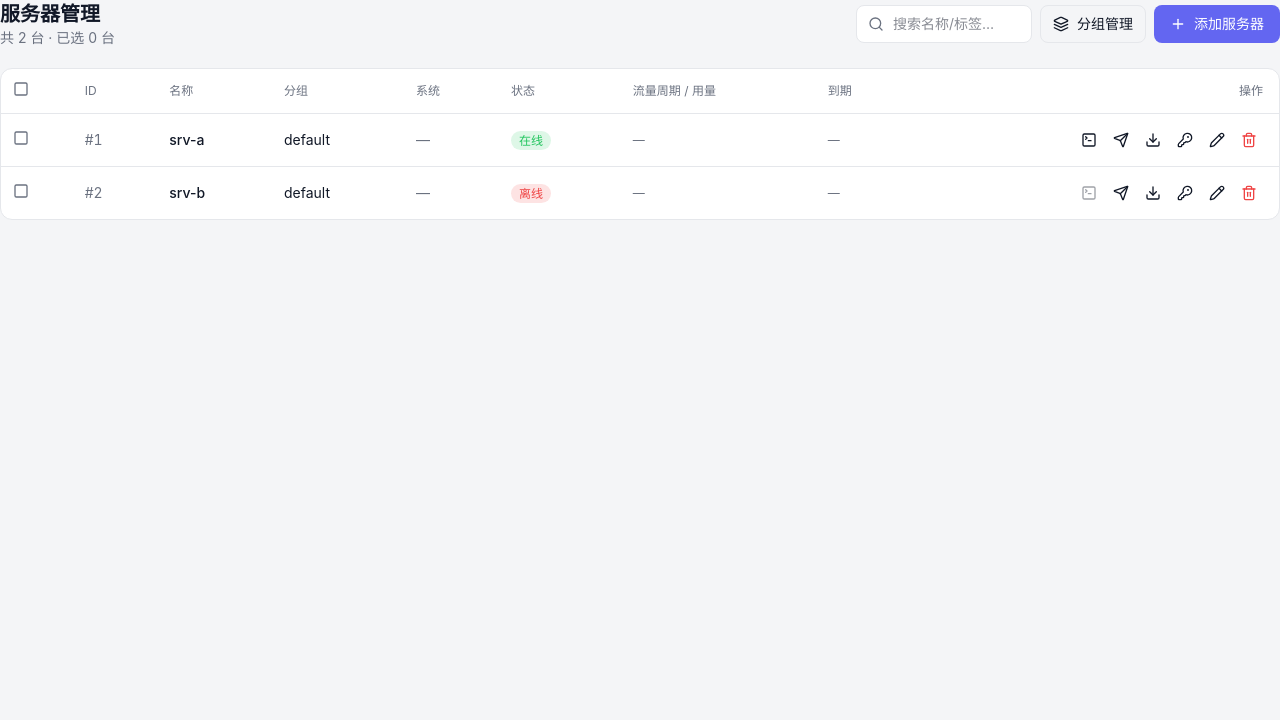
Servers batch operations › batch DDNS applies a selected profile and shows results
Check: the text "srv-a" is shown, box [153,114,268,166]
Check: the table is shown, box [1,114,1279,219]
Click the button without text in the row of "srv-a" at (21,138), box [13,130,29,146]
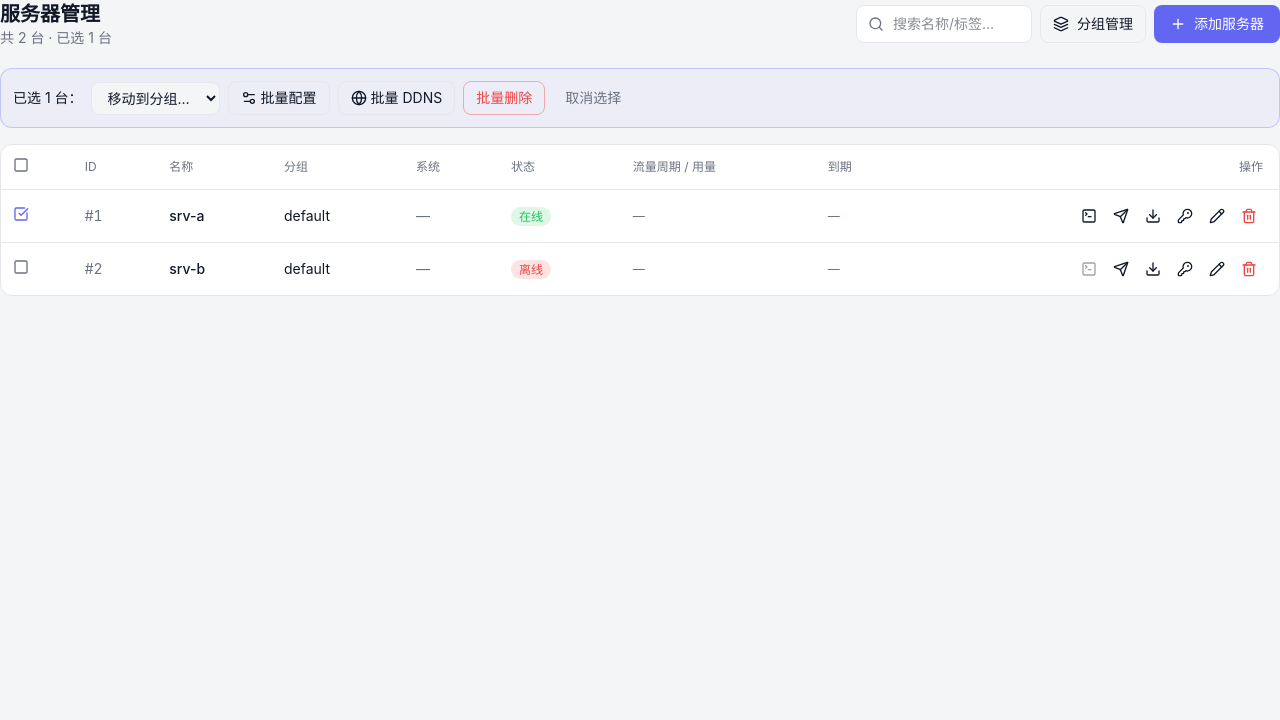
Click the button without text in the row of "srv-b" at (21,266), box [13,258,29,274]
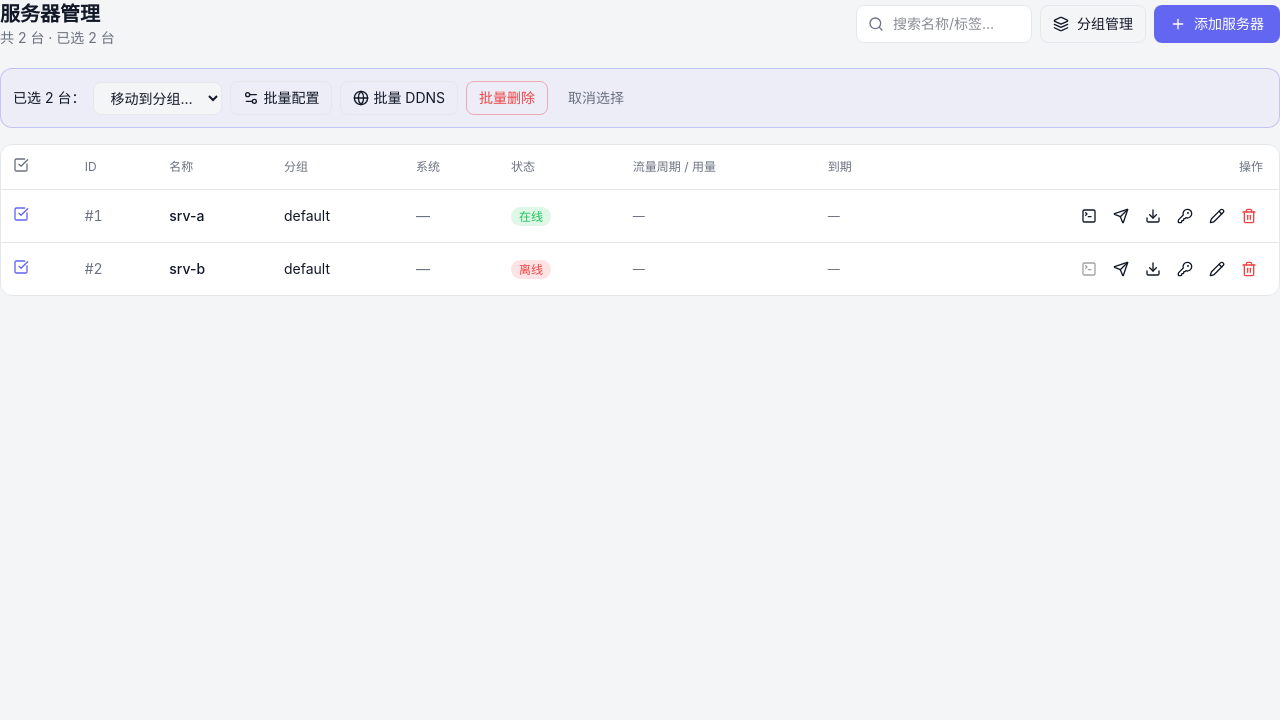
Click the button "批量 DDNS" at (399,98), box [340,81,458,115]
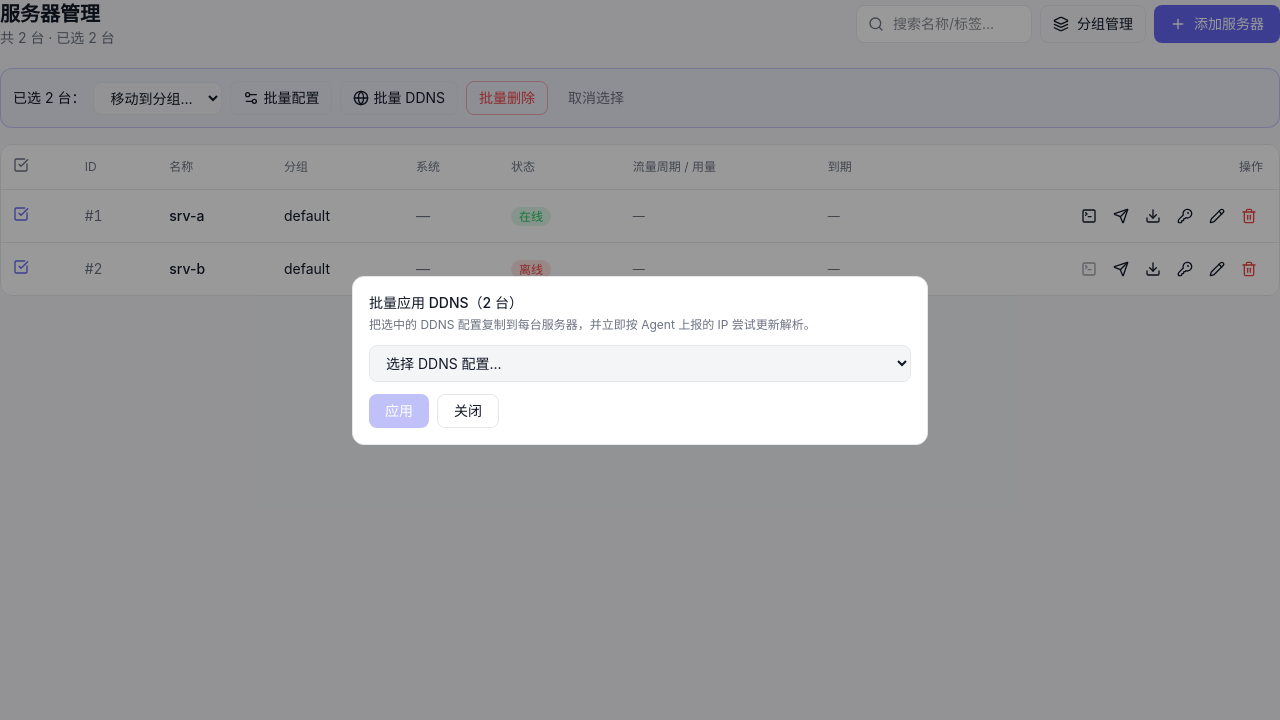
Check: the dropdown is shown
Select "home-ddns · srv-a · home.example" in the dropdown at (640,363), box [369,344,911,382]
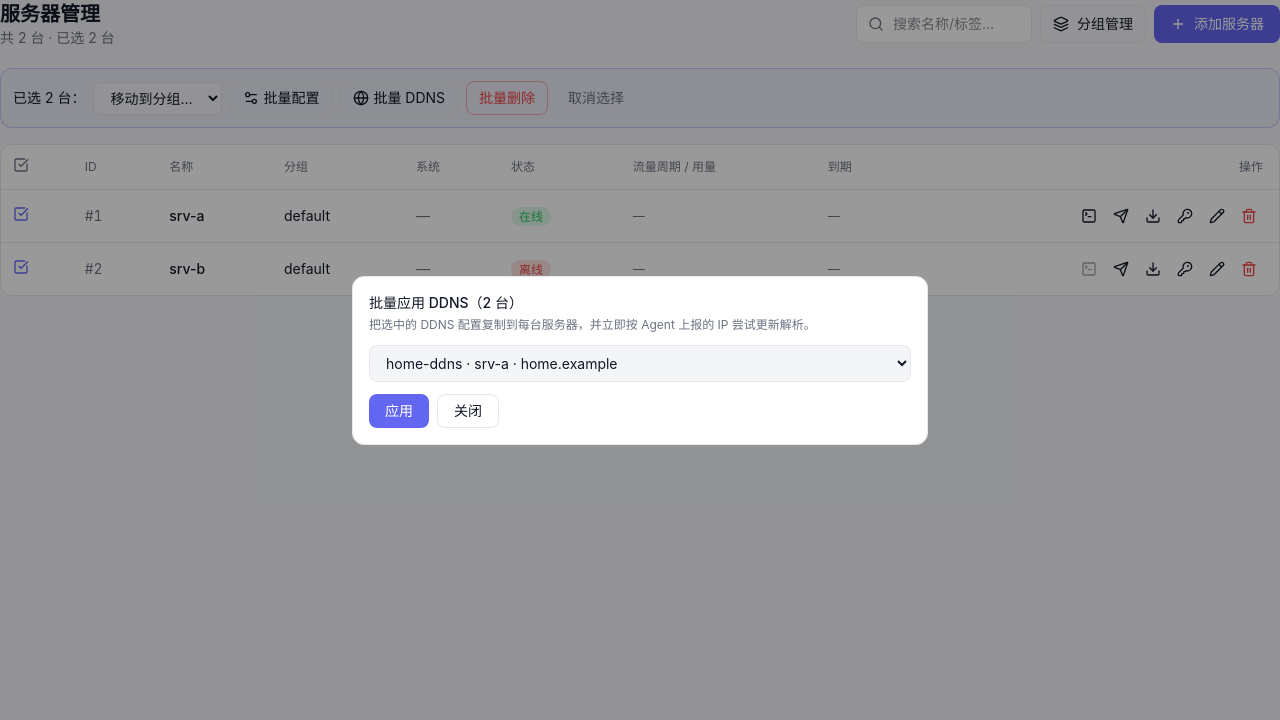
Click the button "应用" at (399,410), box [369,394,429,428]
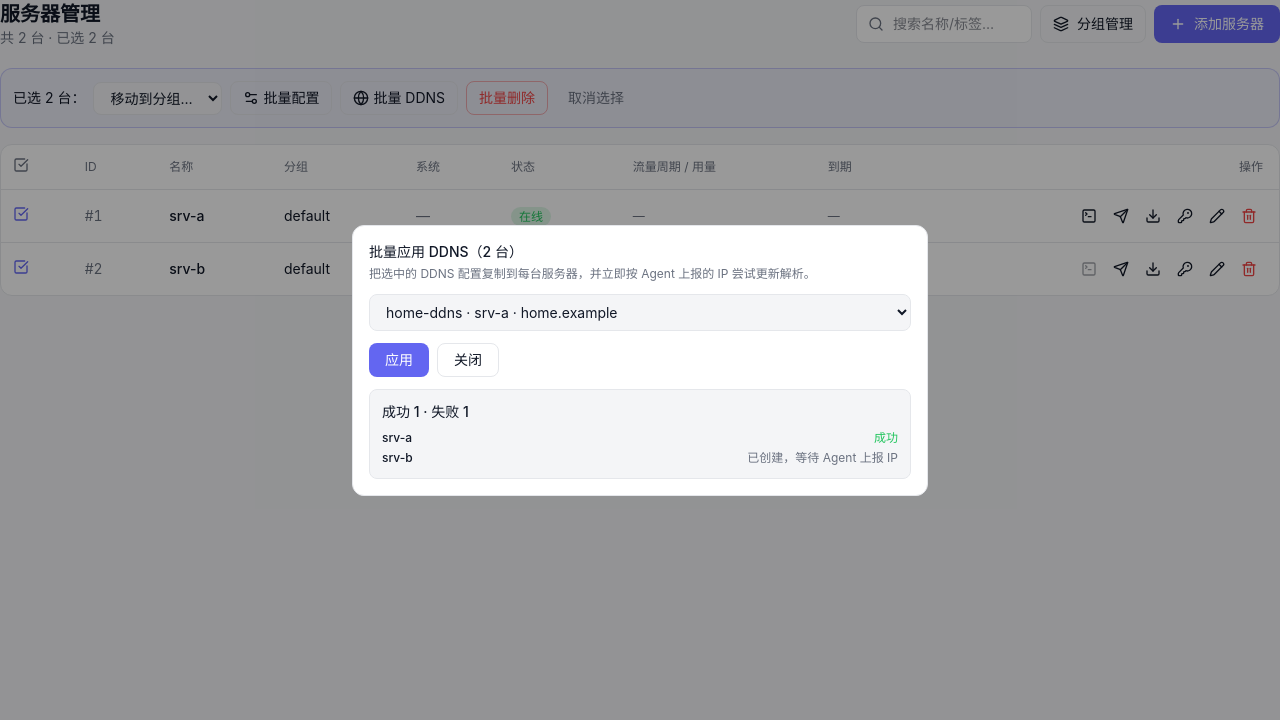
Check: the text "成功 1 · 失败 1" is shown, box [382,402,469,420]
Check: the text "已创建，等待 Agent 上报 IP" is shown, box [747,450,898,466]
